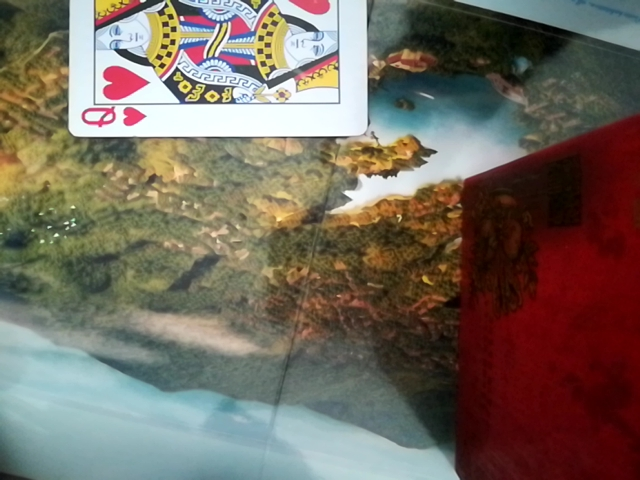hx q: (56, 1, 365, 143)
